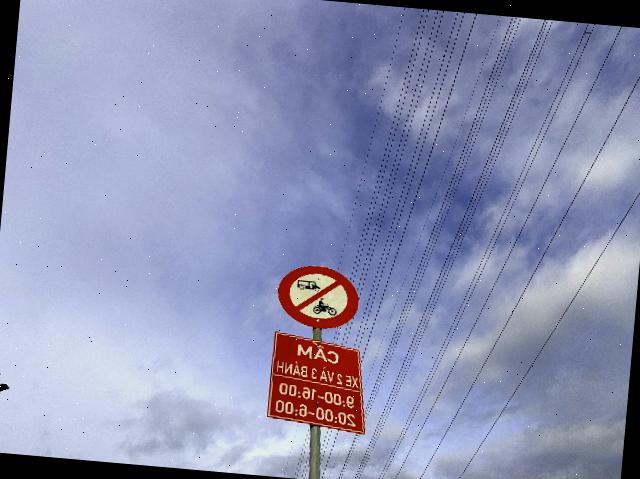cam-xe-2-banh-3-banh: (274, 262, 362, 332)
